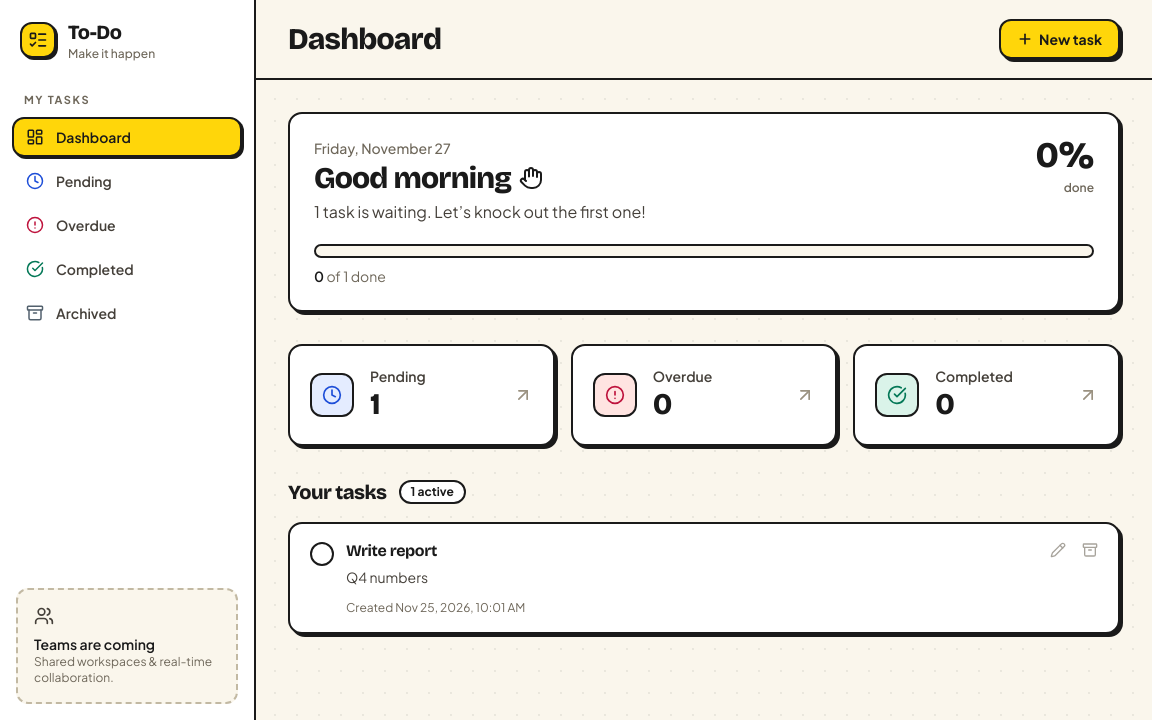
editing a task › does not save when the title is cleared
Expected: the heading "Write report" is shown, [346,540,437,560]
Click the button named "Edit \"Write report\"" at (1058, 550), box [1042,534,1074,566]
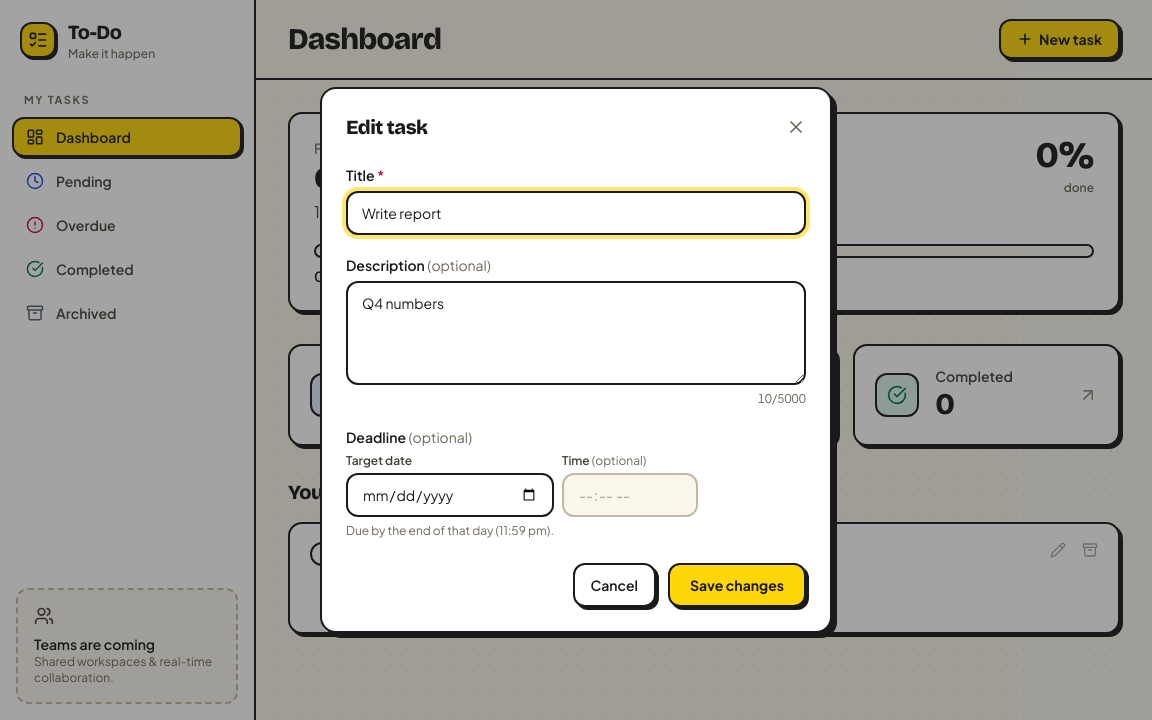
Clear the field labelled "Title *" at (576, 213), box [346,191,806,235]
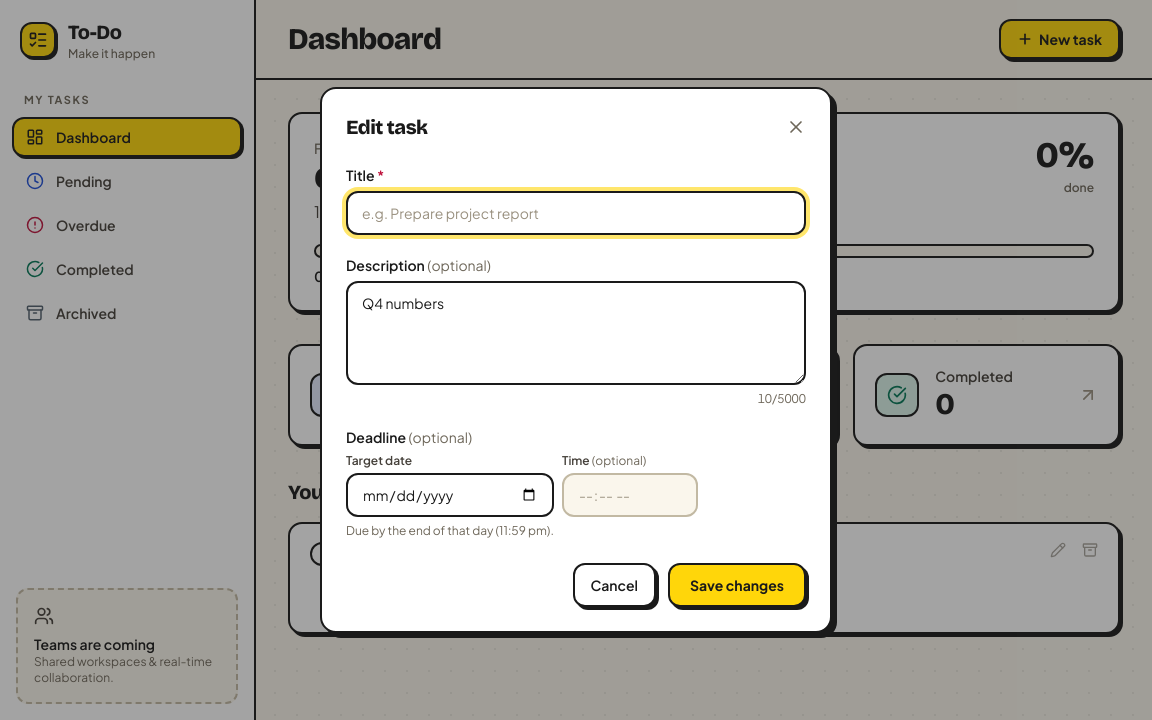
Click the button "Save changes" at (737, 585), box [668,563,806,607]
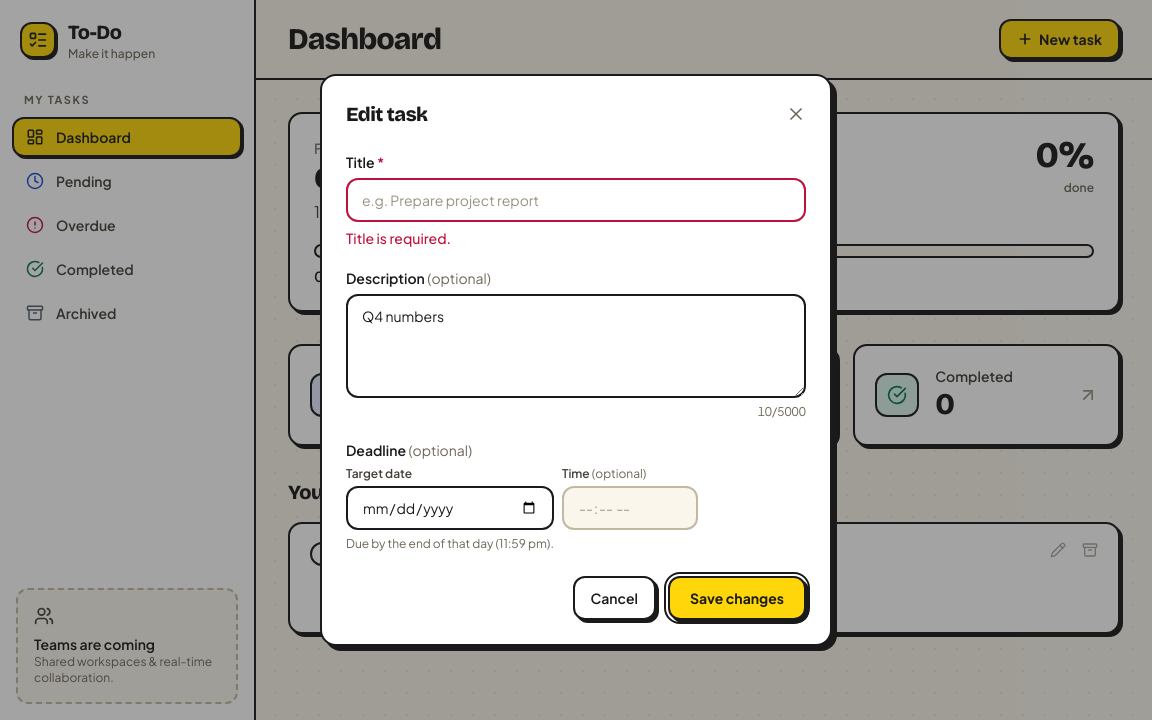
Expected: the link "Write report" is shown, [346,540,437,560]
Expected: the dialog is shown, [320,74,832,646]
Expected: the text "Title is required." is shown, [346,229,451,247]
